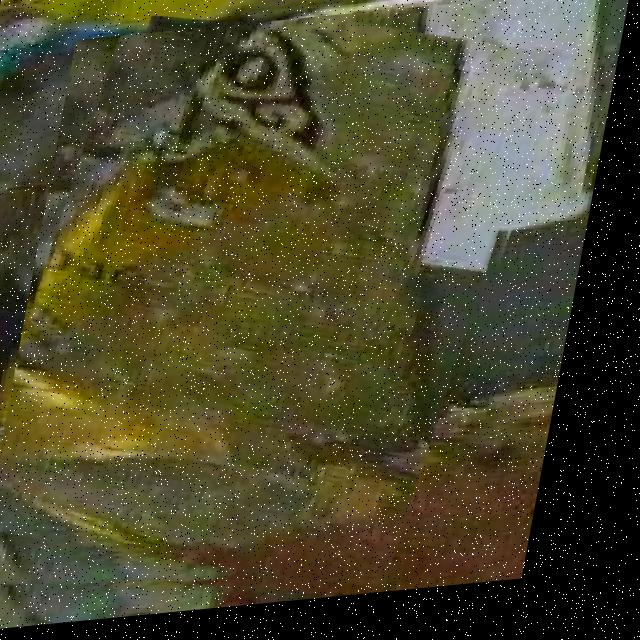can: (0, 5, 566, 624)
